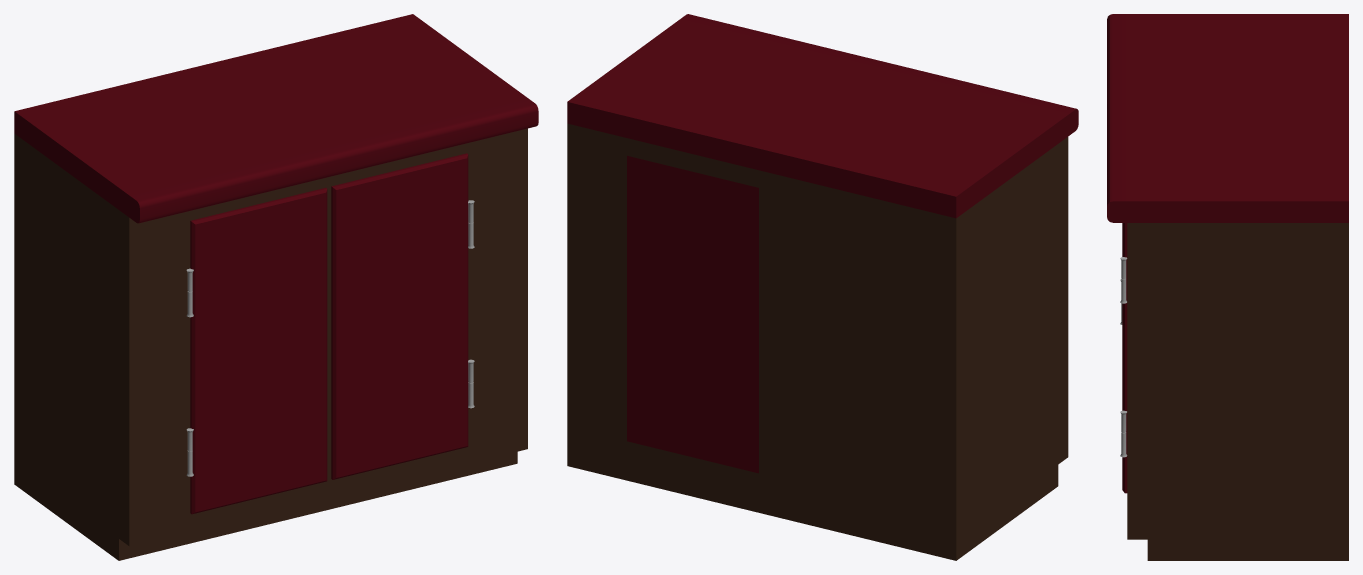
File: SM_ComptoirTiroir.fbx
The picture shows the model from 3 angles, left to right: view 1: azimuth 30°, elevation 25°; view 2: azimuth 150°, elevation 25°; view 3: azimuth 270°, elevation 25°; orthographic projection. The views are drawn at different scales.
Parts seen in each view (by area): view 1: SM_ComptoirTiroir; view 2: SM_ComptoirTiroir; view 3: SM_ComptoirTiroir.
Boxes of the visible parts, left/top/right/bottom form: SM_ComptoirTiroir: left=14, top=14, right=538, bottom=560; SM_ComptoirTiroir: left=567, top=14, right=1078, bottom=560; SM_ComptoirTiroir: left=1107, top=14, right=1348, bottom=560.
Bounding box in the file's own units: 93.93 × 84.02 × 51.22.
